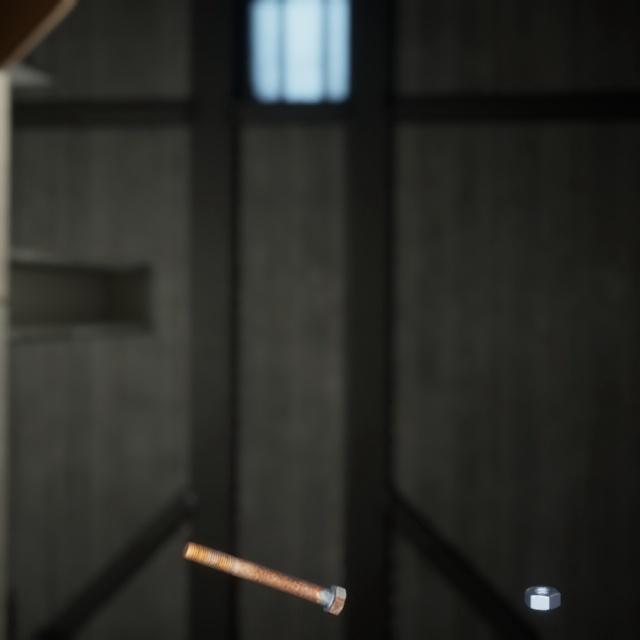bolt: (178, 513, 350, 596)
nut: (520, 558, 565, 591)
